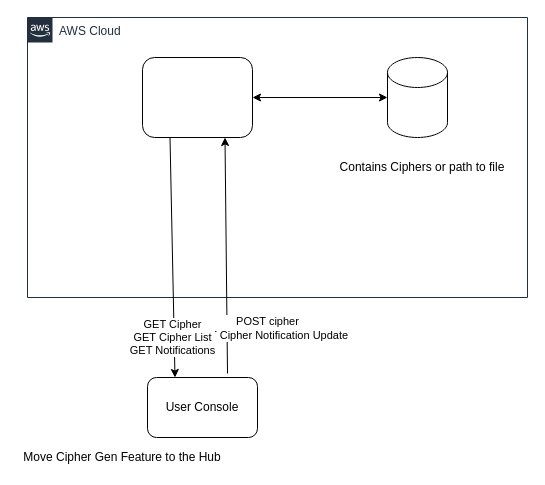
Image size: 545x485. Some labels were removed from this diagram. Here are the shapes that lost their labels. From the top down, the centre of each, then its label:
pixel 197 97: Cipher Hub
pixel 417 97: Cipher DB
